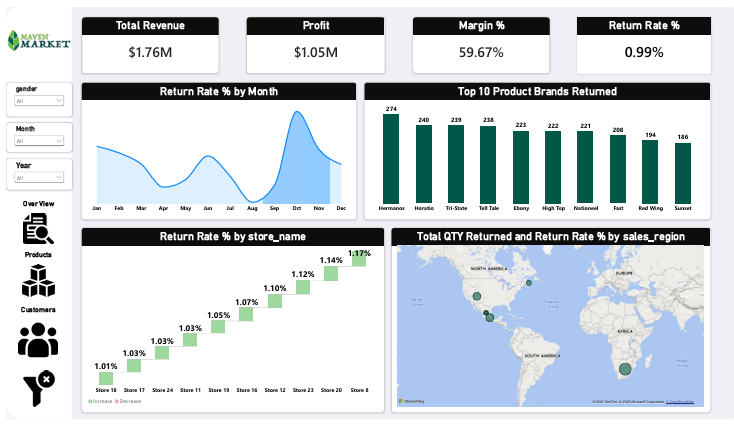

What the dashboard file says about the page in this screenshot:
{"tool":"powerbi","page":{"name":"Returms","canvas":[1920,1080],"ordinal":4},"visuals":[{"type":"card","title":"Total Revenue","fields":{"Values":["_Measure.Total Revenue"]},"box":[197.7,25.5,359.3,148.8],"z":0},{"type":"card","title":"Profit","fields":{"Values":["_Measure.Profit"]},"box":[628.6,25.5,363.5,148.8],"z":1},{"type":"card","title":"Margin %","fields":{"Values":["_Measure.Margin%"]},"box":[1063.7,25.5,359.3,148.8],"z":2},{"type":"card","title":"Return Rate %","fields":{"Values":["_Measure.Return Rate %"]},"box":[1494.6,25.5,350.8,148.8],"z":3},{"type":"image","box":[0,0,171.3,173.9],"z":4},{"type":"lineChart","title":"Return Rate % by Month","fields":{"Y":["_Measure.Return Rate %"],"Category":["DimCalendar.Short Month"]},"box":[196.5,196.5,720.6,360.3],"z":5},{"type":"columnChart","title":"Top 10 Product Brands Returned","fields":{"Category":["DimProducts.product_brand"],"Y":["_Measure.Total QTY Returned"]},"box":[937.3,196.5,907.1,360.3],"z":6},{"type":"waterfallChart","fields":{"Category":["DimStores.store_name"],"Y":["_Measure.Return Rate %"]},"box":[196.5,577,793.7,483.8],"z":7},{"type":"map","fields":{"Category":["DimRegions.sales_region"],"Size":["_Measure.Total QTY Returned"]},"box":[1007.9,577,836.5,483.8],"z":8},{"type":"slicer","fields":{"Values":["DimCalendar.Month"]},"box":[0,302.4,173.9,78.1],"z":9},{"type":"slicer","fields":{"Values":["DimCalendar.Year"]},"box":[0,395.6,173.9,83.1],"z":10},{"type":"slicer","fields":{"Values":["DimCustomers.gender"]},"box":[0,196.5,173.9,90.7],"z":11},{"type":"image","title":"Products","box":[23.4,635.7,121.2,121.2],"z":12},{"type":"image","title":"Over View","box":[23.4,503.9,123.3,116.9],"z":13},{"type":"image","title":"Customers","box":[23.4,782.4,121.2,140.3],"z":14},{"type":"image","box":[19.1,952.4,133.9,93.5],"z":15}]}

Visuals, with their boxes in screenshot pixels (x1, y1, x2, y2), scaled from the page's 1920x1080 canvas onto the 734x424 screenshot:
"Total Revenue" card: bbox=(76, 10, 213, 68)
"Profit" card: bbox=(240, 10, 379, 68)
"Margin %" card: bbox=(407, 10, 544, 68)
"Return Rate %" card: bbox=(571, 10, 705, 68)
image: bbox=(0, 0, 65, 68)
"Return Rate % by Month" lineChart: bbox=(75, 77, 351, 219)
"Top 10 Product Brands Returned" columnChart: bbox=(358, 77, 705, 219)
waterfallChart - DimStores.store_name x _Measure.Return Rate %: bbox=(75, 227, 379, 416)
map - DimRegions.sales_region x _Measure.Total QTY Returned: bbox=(385, 227, 705, 416)
slicer - DimCalendar.Month: bbox=(0, 119, 66, 149)
slicer - DimCalendar.Year: bbox=(0, 155, 66, 188)
slicer - DimCustomers.gender: bbox=(0, 77, 66, 113)
"Products" image: bbox=(9, 250, 55, 297)
"Over View" image: bbox=(9, 198, 56, 244)
"Customers" image: bbox=(9, 307, 55, 362)
image: bbox=(7, 374, 58, 411)
